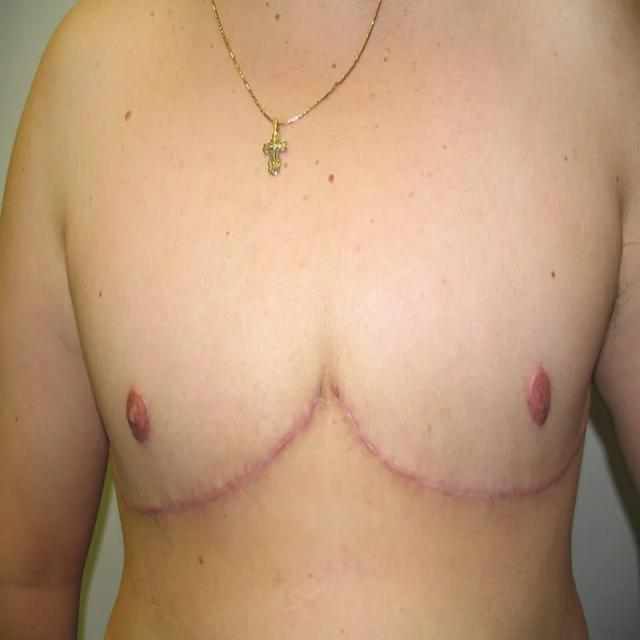Seno herido: (330, 274, 602, 545), (90, 274, 324, 545)
